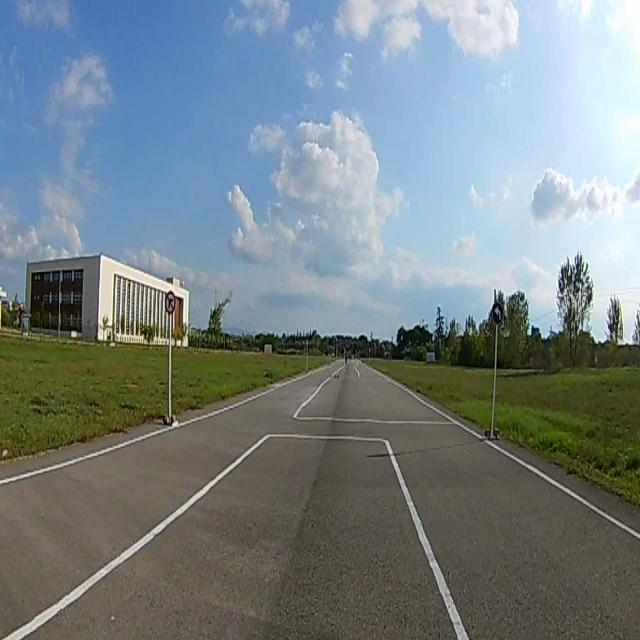sagadonulmez: (165, 291, 175, 313)
sol: (492, 302, 502, 324)
